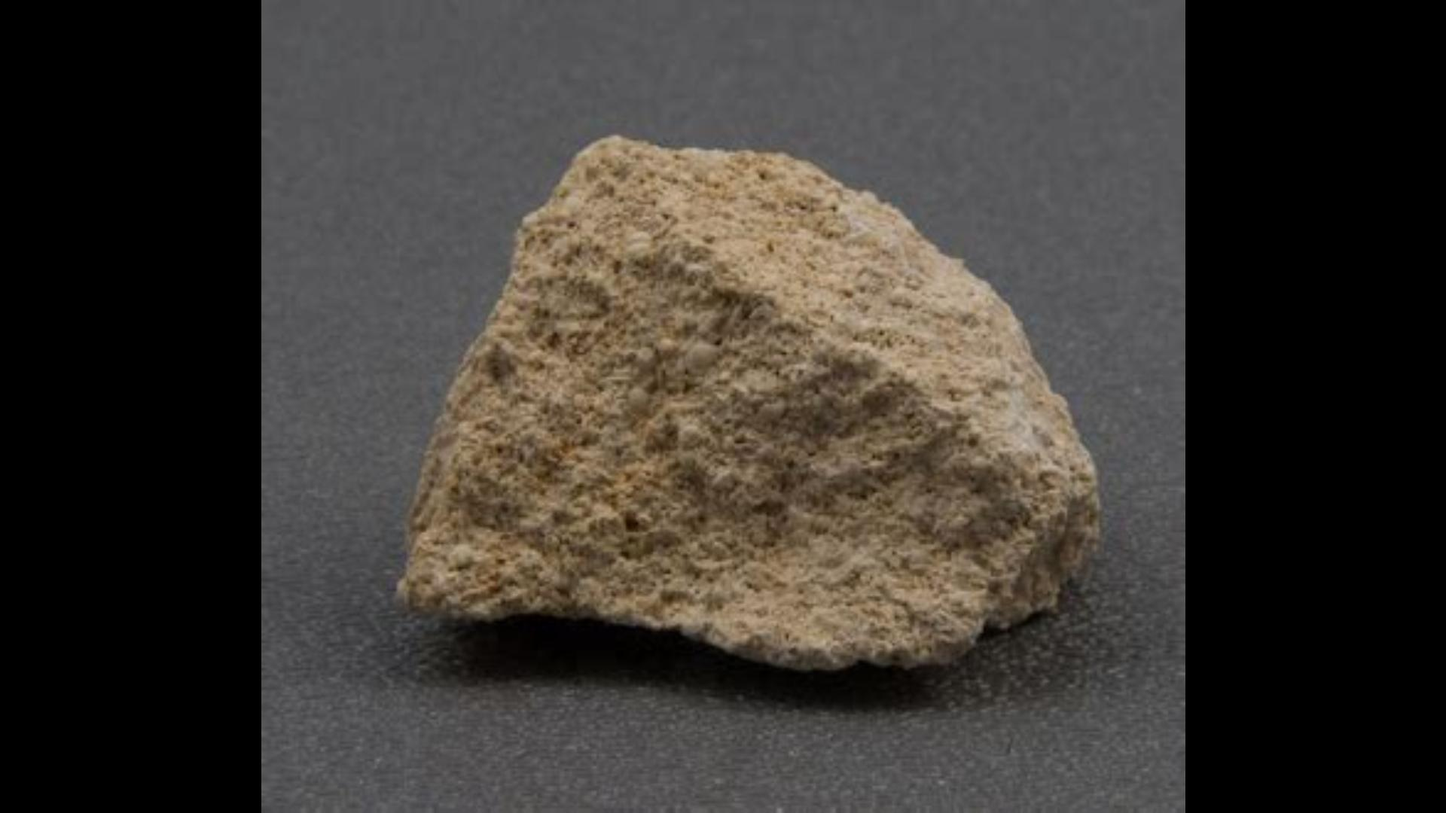rock: (399, 138, 1094, 668)
